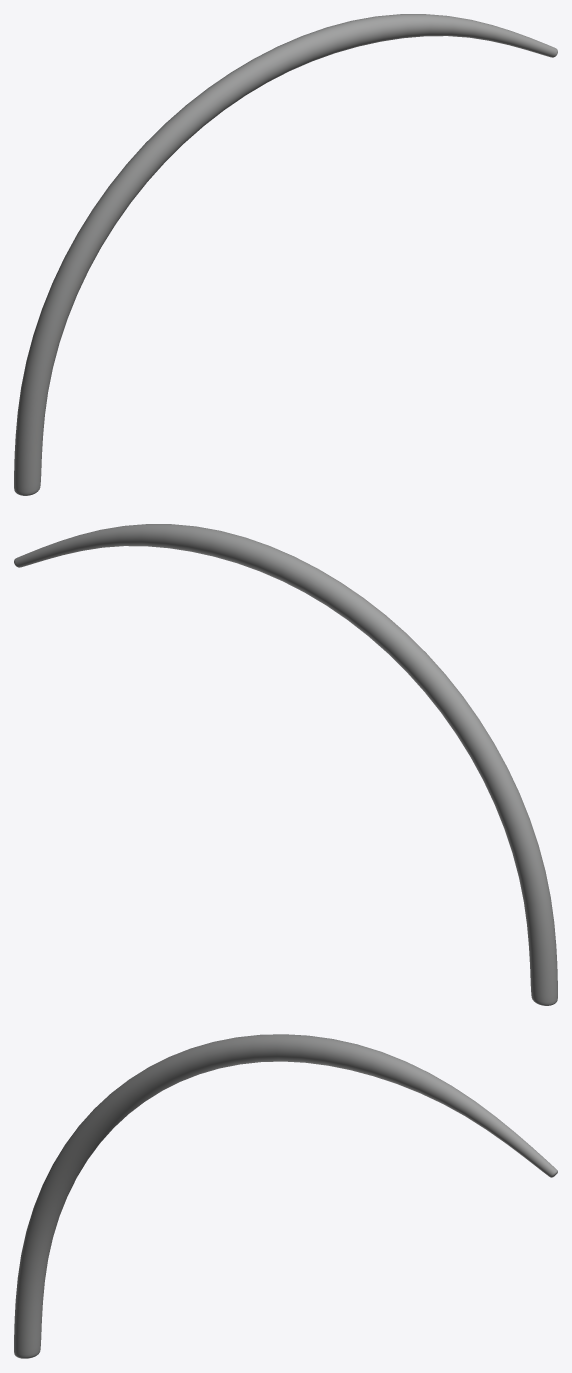
Rendered from Needle.OBJ.
3 renders of one model, top to bottom at view 1: azimuth 30°, elevation 25°; view 2: azimuth 150°, elevation 25°; view 3: azimuth 330°, elevation 25°, orthographic.
Parts seen in each view (by area): view 1: Needle_/ambf/env/Needle_Needle_Cylinder.001; view 2: Needle_/ambf/env/Needle_Needle_Cylinder.001; view 3: Needle_/ambf/env/Needle_Needle_Cylinder.001.
Boxes of the visible parts, x1,y1,x2,y2 form: Needle_/ambf/env/Needle_Needle_Cylinder.001: [14, 14, 557, 495]; Needle_/ambf/env/Needle_Needle_Cylinder.001: [14, 524, 557, 1005]; Needle_/ambf/env/Needle_Needle_Cylinder.001: [14, 1034, 557, 1358].
Bounding box in the file's own units: 0.018 × 0.0124 × 0.000798.
